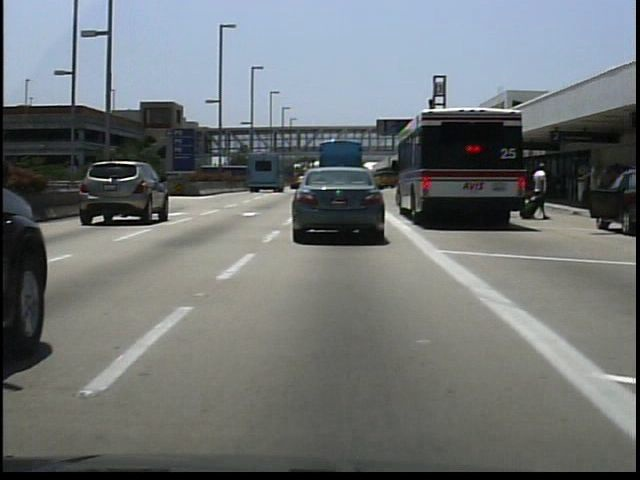person: (529, 160, 550, 222)
